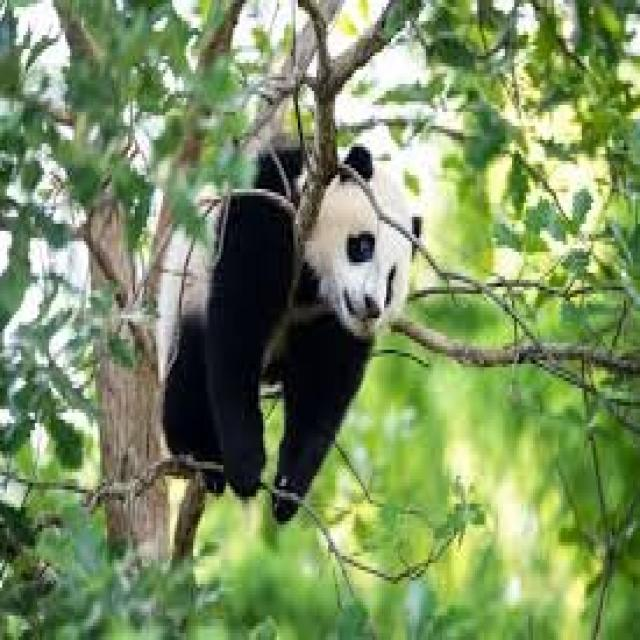Panda: (160, 136, 416, 516)
